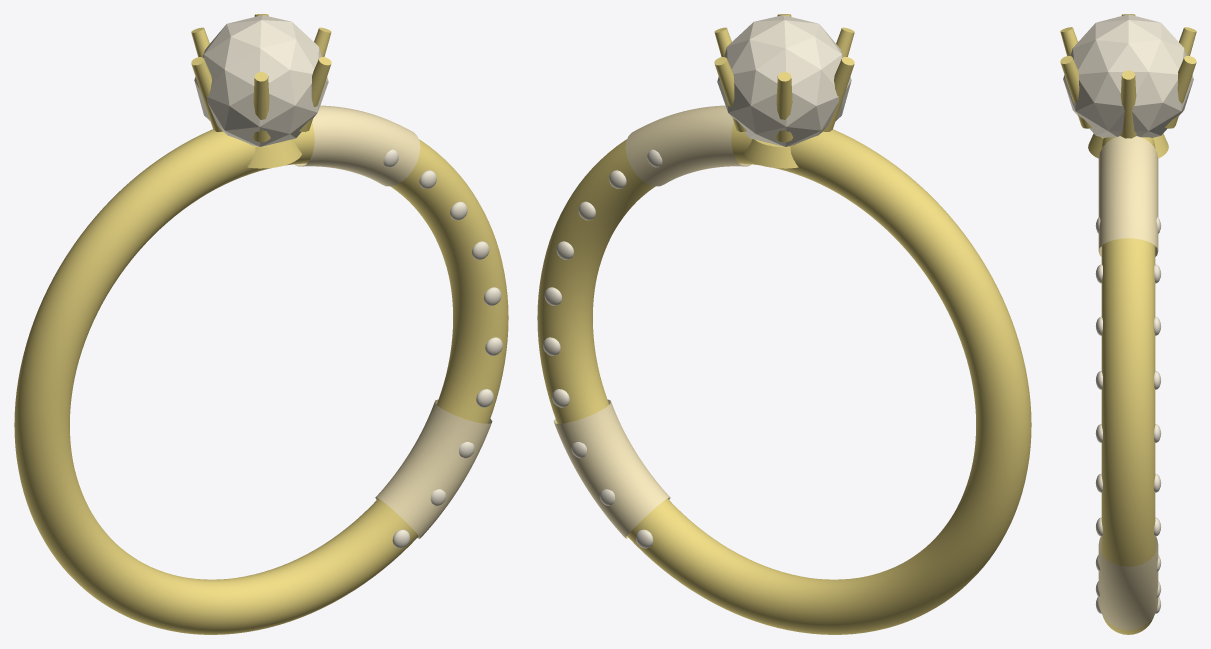
The model's file is surya-solitaire-ring.glb.
The picture shows the model from 3 angles, left to right: view 1: azimuth 30°, elevation 25°; view 2: azimuth 150°, elevation 25°; view 3: azimuth 270°, elevation 25°; orthographic projection. The views are drawn at different scales.
Visible parts, largest first — view 1: surya-solitaire-ring; view 2: surya-solitaire-ring; view 3: surya-solitaire-ring.
Part boxes in pixels (box(x1,y1,x2,y2)): surya-solitaire-ring: box(14, 14, 508, 634); surya-solitaire-ring: box(537, 14, 1031, 634); surya-solitaire-ring: box(1060, 14, 1196, 634).
Bounding box in the file's own units: 2.86 × 3.4 × 0.7141.
